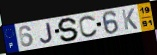6: (101, 10, 120, 35), (18, 25, 35, 48)
C: (78, 15, 99, 38)
J: (39, 22, 54, 44)
K: (121, 7, 140, 31)
S: (57, 17, 81, 42)
